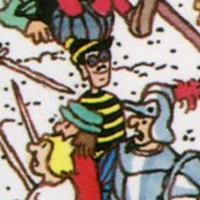odlaw: (81, 37, 110, 88)
